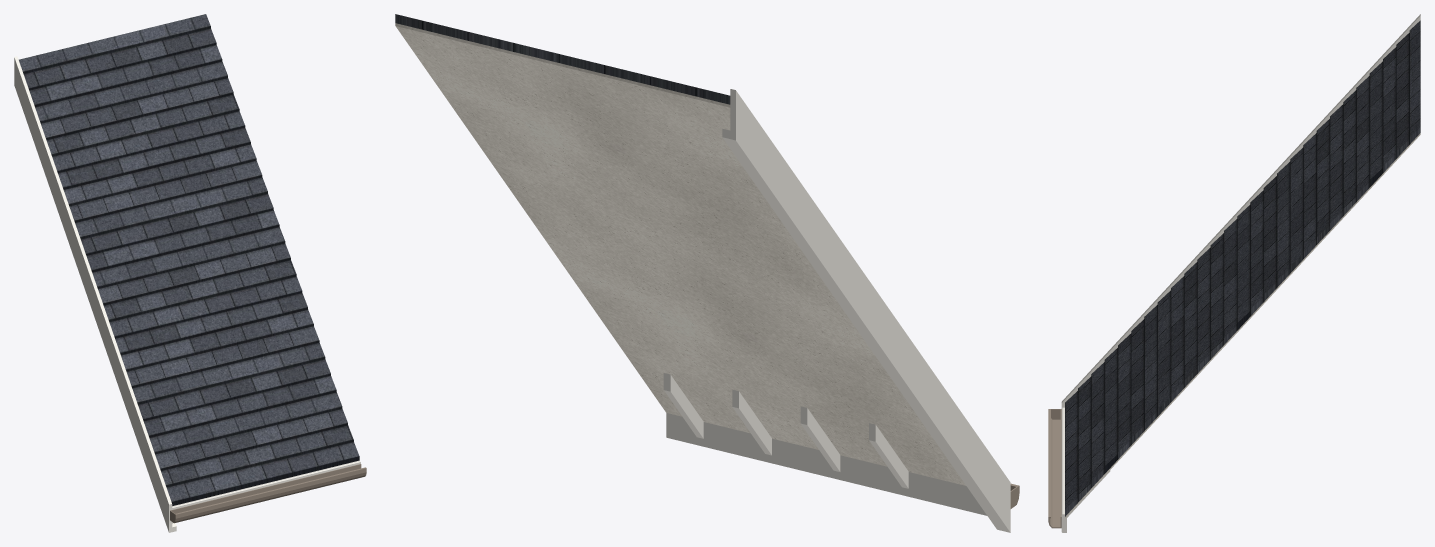
The model's file is roof_eave_a.glb.
3 renders of one model, left to right at view 1: azimuth 30°, elevation 25°; view 2: azimuth 150°, elevation 25°; view 3: azimuth 270°, elevation 25°, orthographic. The views are drawn at different scales.
Parts seen in each view (by area): view 1: roof_eave_a_shingles, roof_eave_a_trim, roof_eave_a_gutter; view 2: roof_eave_a_plaster, roof_eave_a_trim, roof_eave_a_shingles; view 3: roof_eave_a_shingles, roof_eave_a_trim, roof_eave_a_gutter, roof_eave_a_plaster.
Boxes of the visible parts, left/top/right/bottom form: roof_eave_a_shingles: left=19, top=14, right=359, bottom=505; roof_eave_a_trim: left=14, top=56, right=360, bottom=532; roof_eave_a_gutter: left=170, top=464, right=366, bottom=523; roof_eave_a_plaster: left=395, top=23, right=965, bottom=485; roof_eave_a_trim: left=663, top=89, right=1010, bottom=532; roof_eave_a_shingles: left=395, top=14, right=730, bottom=104; roof_eave_a_shingles: left=1065, top=20, right=1420, bottom=516; roof_eave_a_trim: left=1061, top=14, right=1420, bottom=532; roof_eave_a_gutter: left=1048, top=409, right=1061, bottom=528; roof_eave_a_plaster: left=1065, top=133, right=1420, bottom=518.
Size of the model in its own units: 2.49 by 4.5 by 3.61.
4 materials, 2 textured.
